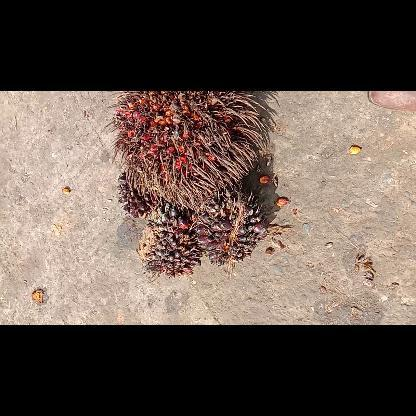TBS abnormal: (194, 188, 268, 266), (140, 206, 204, 278), (116, 168, 158, 219)
Terlalu masak: (105, 92, 271, 210)
